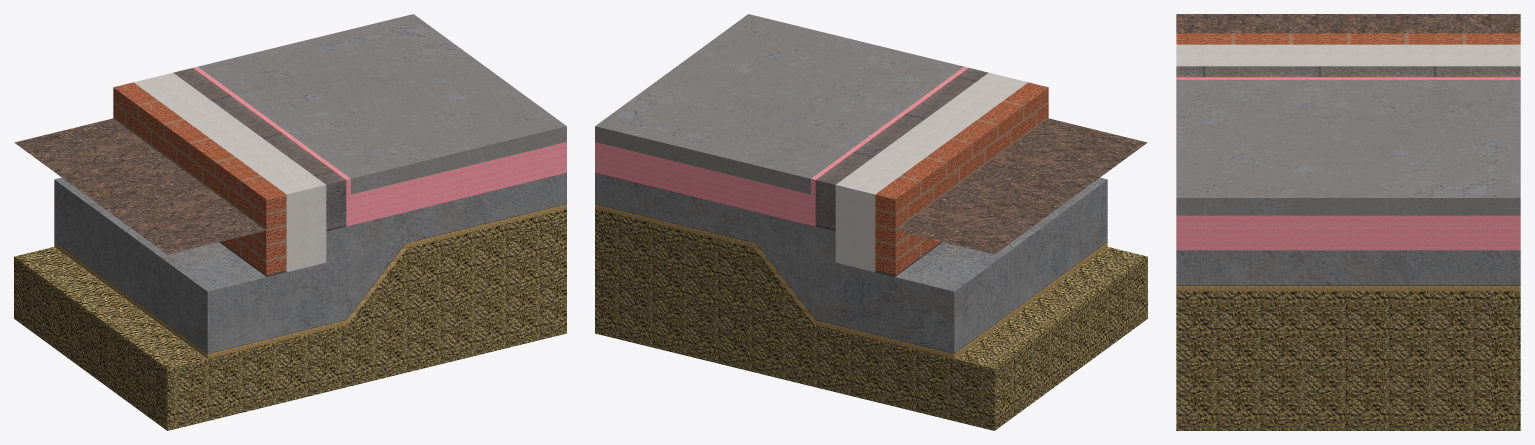
Rendered from Raft Foundation_01.glb.
3 renders of one model, left to right at view 1: azimuth 30°, elevation 25°; view 2: azimuth 150°, elevation 25°; view 3: azimuth 270°, elevation 25°, orthographic. The views are drawn at different scales.
Parts seen in each view (by area): view 1: Geom3D__6, Geom3D_, Geom3D__1, Geom3D__12, Geom3D__7, Geom3D__2, Geom3D__5, Geom3D_28, Geom3D_31, Geom3D_5, Geom3D_26, Geom3D_14 (+6 smaller); view 2: Geom3D__6, Geom3D_, Geom3D__1, Geom3D__12, Geom3D__7, Geom3D__2, Geom3D__5, Geom3D_27, Geom3D_24, Geom3D_26, Geom3D_5, Geom3D_9 (+5 smaller); view 3: Geom3D__6, Geom3D_, Geom3D__2, Geom3D__1, Geom3D__7, Geom3D__12, Geom3D__5, Geom3D_26, Geom3D_5, Geom3D_27, Geom3D_4, Geom3D_9 (+6 smaller).
Boxes of the visible parts, x1=… form: Geom3D__6: x1=14, y1=209, x2=566, y2=430; Geom3D_: x1=198, y1=14, x2=566, y2=194; Geom3D__1: x1=54, y1=173, x2=566, y2=353; Geom3D__12: x1=14, y1=118, x2=265, y2=254; Geom3D__7: x1=134, y1=72, x2=326, y2=271; Geom3D__2: x1=193, y1=66, x2=566, y2=226; Geom3D__5: x1=54, y1=204, x2=566, y2=358; Geom3D_28: x1=315, y1=171, x2=346, y2=229; Geom3D_31: x1=242, y1=176, x2=286, y2=212; Geom3D_5: x1=212, y1=96, x2=281, y2=137; Geom3D_26: x1=263, y1=134, x2=332, y2=175; Geom3D_14: x1=164, y1=120, x2=208, y2=155; Geom3D__6: x1=595, y1=209, x2=1147, y2=430; Geom3D_: x1=595, y1=14, x2=963, y2=194; Geom3D__1: x1=595, y1=173, x2=1107, y2=353; Geom3D__12: x1=896, y1=118, x2=1147, y2=254; Geom3D__7: x1=835, y1=72, x2=1027, y2=271; Geom3D__2: x1=595, y1=66, x2=968, y2=226; Geom3D__5: x1=595, y1=204, x2=1107, y2=358; Geom3D_27: x1=815, y1=152, x2=872, y2=229; Geom3D_24: x1=875, y1=176, x2=919, y2=212; Geom3D_26: x1=906, y1=77, x2=975, y2=118; Geom3D_5: x1=854, y1=115, x2=923, y2=156; Geom3D_9: x1=953, y1=120, x2=997, y2=155; Geom3D__6: x1=1176, y1=291, x2=1520, y2=430; Geom3D_: x1=1176, y1=79, x2=1520, y2=215; Geom3D__2: x1=1176, y1=77, x2=1520, y2=250; Geom3D__1: x1=1176, y1=250, x2=1520, y2=285; Geom3D__7: x1=1176, y1=44, x2=1520, y2=66; Geom3D__12: x1=1176, y1=14, x2=1520, y2=33; Geom3D__5: x1=1176, y1=285, x2=1520, y2=291; Geom3D_26: x1=1205, y1=66, x2=1318, y2=76; Geom3D_5: x1=1321, y1=66, x2=1433, y2=76; Geom3D_27: x1=1436, y1=66, x2=1520, y2=76; Geom3D_4: x1=1234, y1=33, x2=1289, y2=44; Geom3D_9: x1=1292, y1=33, x2=1347, y2=44.
Bounding box in the file's own units: 2.02 × 1 × 1.34.
Materials: 14 (14 with a texture image).
